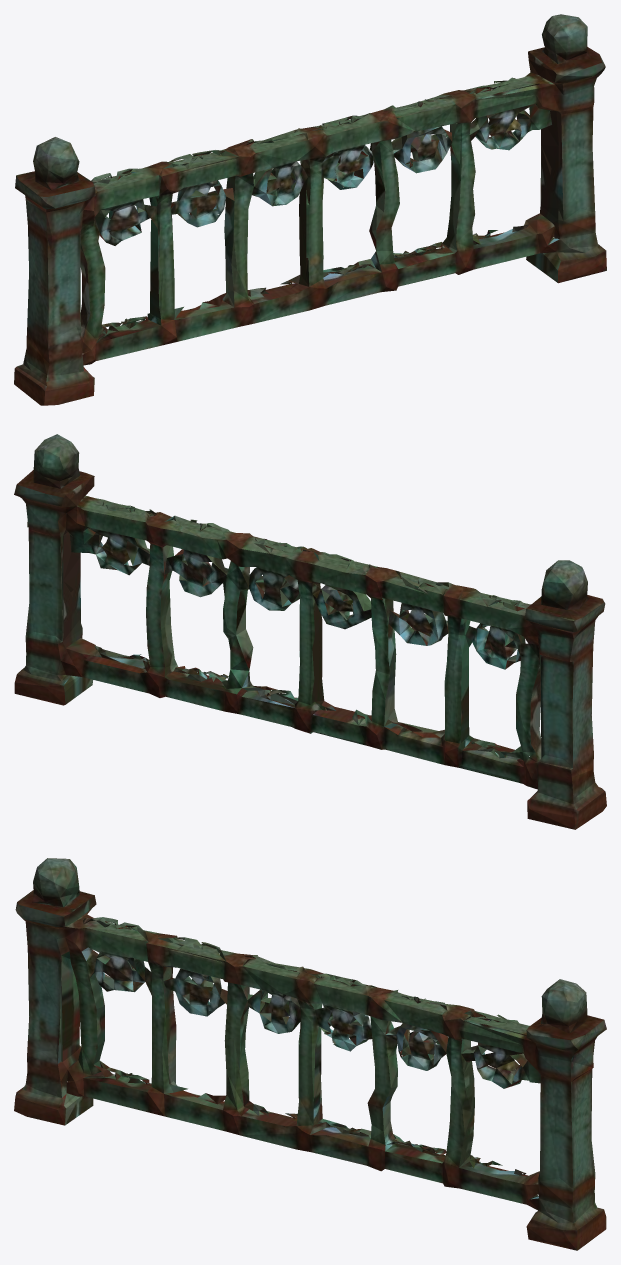
The model's file is park_ironfence_1117.glb.
3 renders of one model, top to bottom at view 1: azimuth 30°, elevation 25°; view 2: azimuth 150°, elevation 25°; view 3: azimuth 330°, elevation 25°, orthographic.
Visible parts, largest first — view 1: world; view 2: world; view 3: world.
Boxes of the visible parts, <box> form: world: <box>14,14,606,405</box>; world: <box>14,434,606,829</box>; world: <box>14,858,606,1250</box>.
Bounding box in the file's own units: 2.35 × 1 × 0.2285.
Materials: 1 (1 with a texture image).
